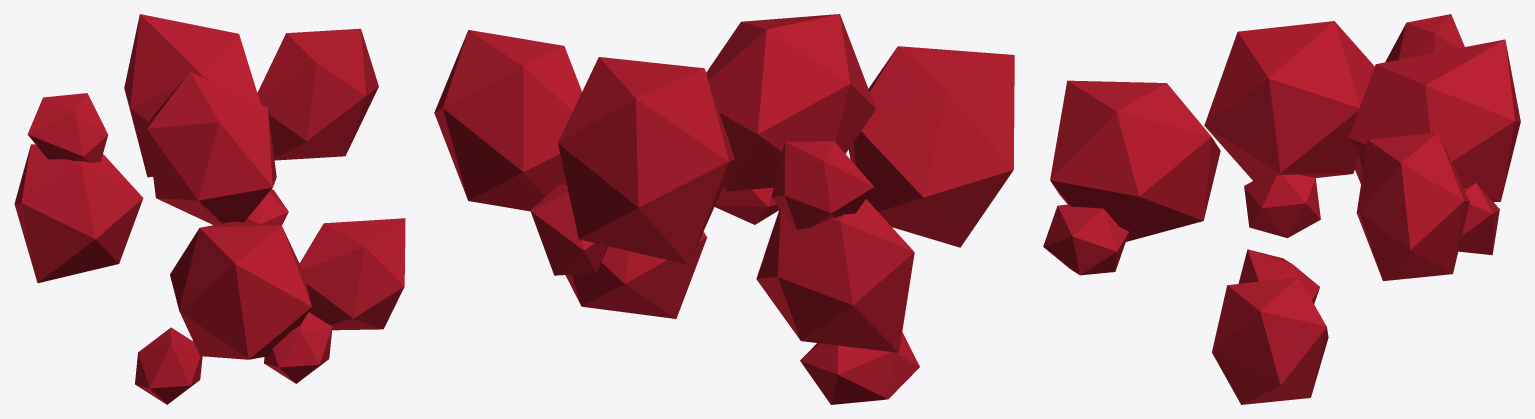
File: tree-dead-leaves-2-046.glb
The picture shows the model from 3 angles, left to right: view 1: azimuth 30°, elevation 25°; view 2: azimuth 150°, elevation 25°; view 3: azimuth 270°, elevation 25°; orthographic projection. The views are drawn at different scales.
Visible parts, largest first — view 1: TREE 2.007_509; view 2: TREE 2.007_509; view 3: TREE 2.007_509.
Part boxes in pixels (x1,y1,x2,y2): TREE 2.007_509: (14,14,405,404); TREE 2.007_509: (434,14,1014,404); TREE 2.007_509: (1043,14,1520,404).
Bounding box in the file's own units: 1.39 × 1.08 × 1.39.
